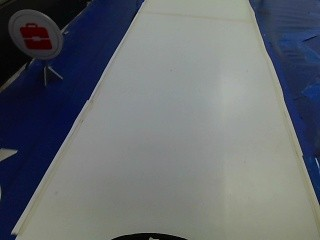company: (3, 11, 63, 60)
